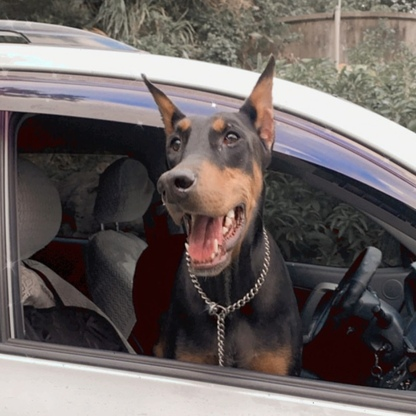doberman: (132, 55, 311, 391)
